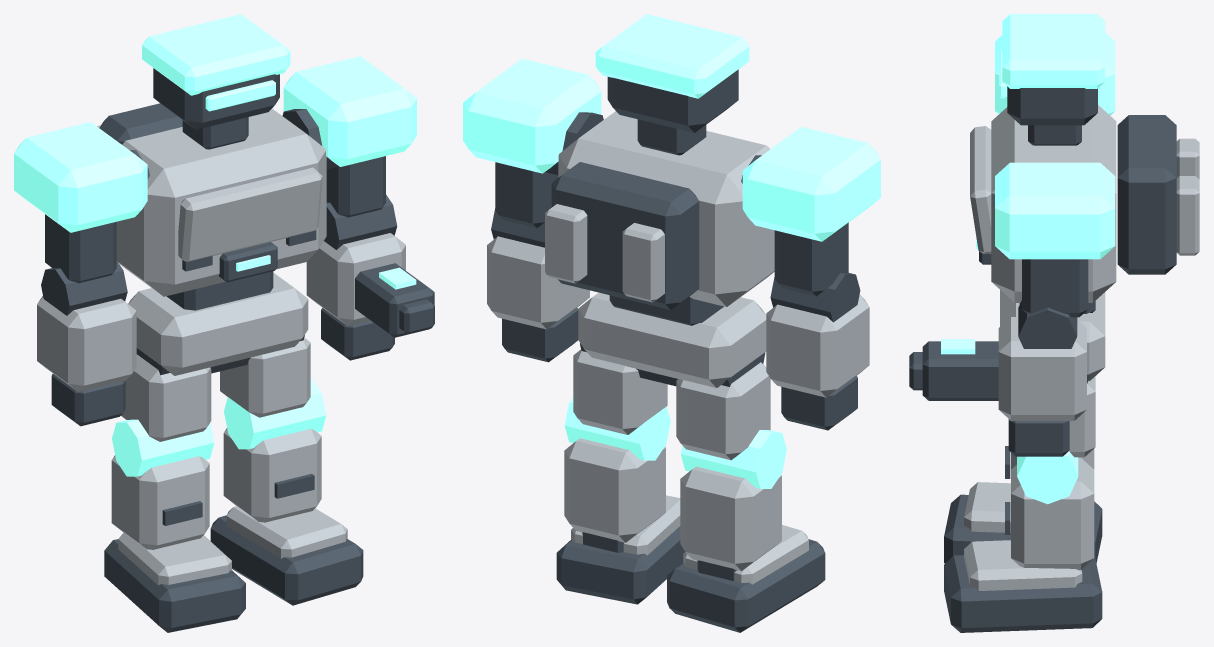
Rendered from MB_Worker01.glb.
The picture shows the model from 3 angles, left to right: view 1: azimuth 30°, elevation 25°; view 2: azimuth 150°, elevation 25°; view 3: azimuth 270°, elevation 25°; orthographic projection. The views are drawn at different scales.
Visible parts, largest first — view 1: standard-carbine, arm.standard.left, arm.standard.right, weapon.carbine; view 2: standard-carbine, arm.standard.left, arm.standard.right; view 3: standard-carbine, arm.standard.right, weapon.carbine, arm.standard.left.
Part boxes in pixels (box(x1,y1,x2,y2)): standard-carbine: box(97, 14, 363, 632); arm.standard.left: box(14, 122, 149, 426); arm.standard.right: box(282, 56, 416, 360); weapon.carbine: box(355, 263, 434, 337); standard-carbine: box(545, 14, 825, 632); arm.standard.left: box(741, 127, 880, 430); arm.standard.right: box(463, 58, 603, 362); standard-carbine: box(944, 14, 1199, 632); arm.standard.right: box(995, 162, 1115, 456); weapon.carbine: box(909, 339, 998, 400); arm.standard.left: box(995, 33, 1115, 115).
Bounding box in the file's own units: 1.73 × 2.47 × 1.19.
